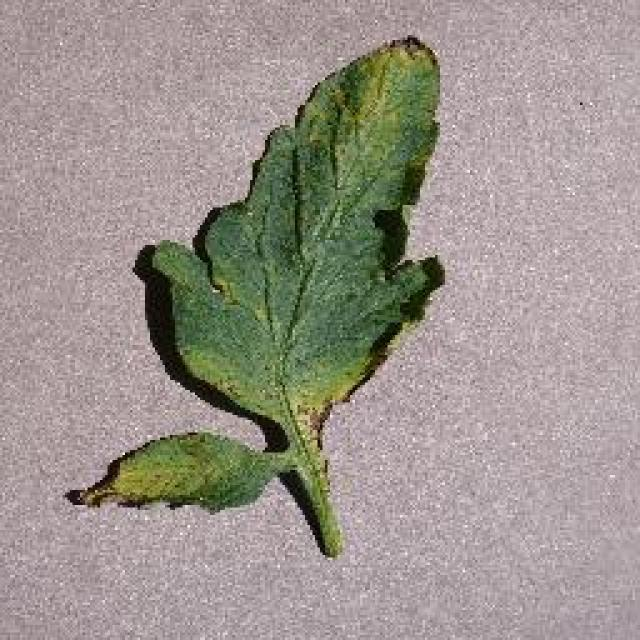Tomato___Septoria_leaf_spot: (78, 38, 440, 555)
